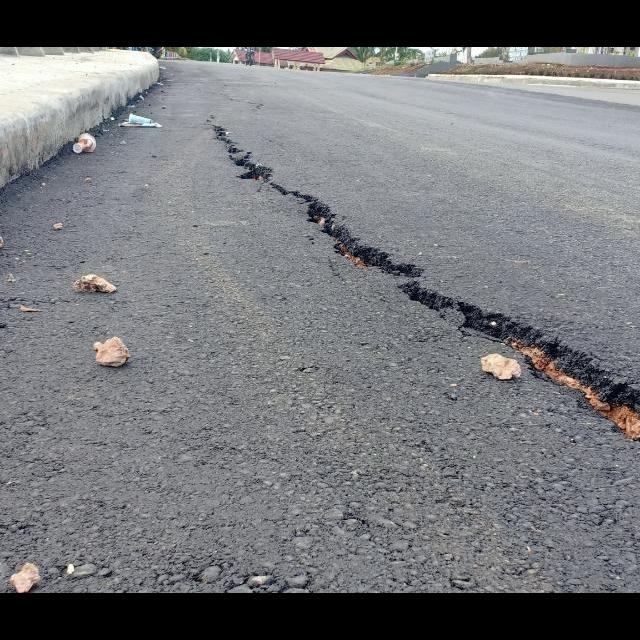retak_memanjang: (205, 119, 640, 579)
